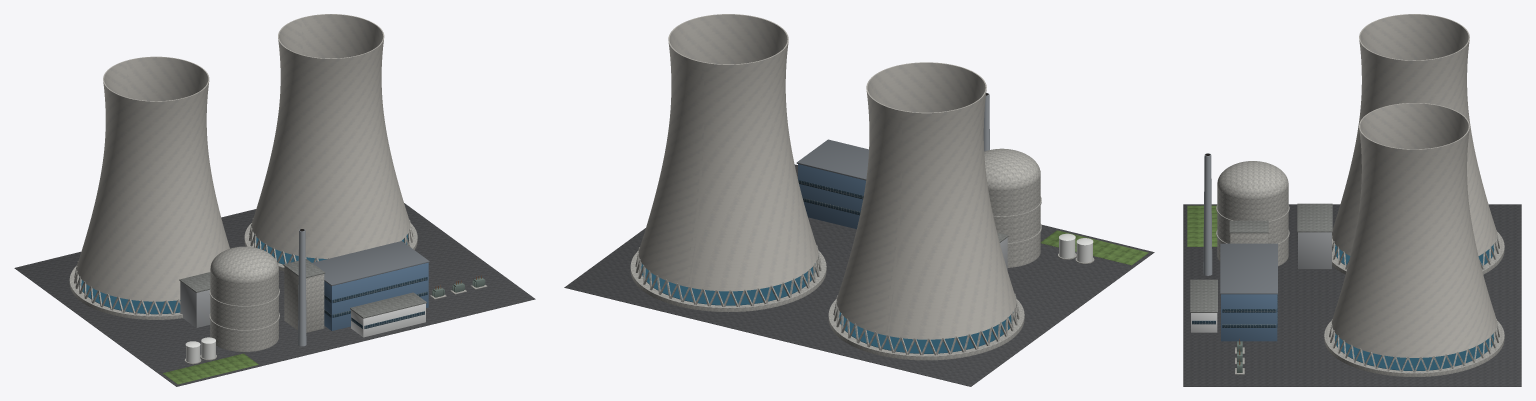
File: nuclear-power-plant.glb
3 views of the same model, side by side, from view 1: azimuth 30°, elevation 25°; view 2: azimuth 150°, elevation 25°; view 3: azimuth 270°, elevation 25° (orthographic). The views are drawn at different scales.
Visible parts, largest first — view 1: Nuclear_Power_Plant; view 2: Nuclear_Power_Plant; view 3: Nuclear_Power_Plant.
Part boxes in pixels (x1,y1,x2,y2): Nuclear_Power_Plant: [14, 14, 535, 386]; Nuclear_Power_Plant: [564, 14, 1154, 386]; Nuclear_Power_Plant: [1183, 14, 1521, 386].
Bounding box in the file's own units: 230 × 125 × 180.
16 materials, 10 textured.
